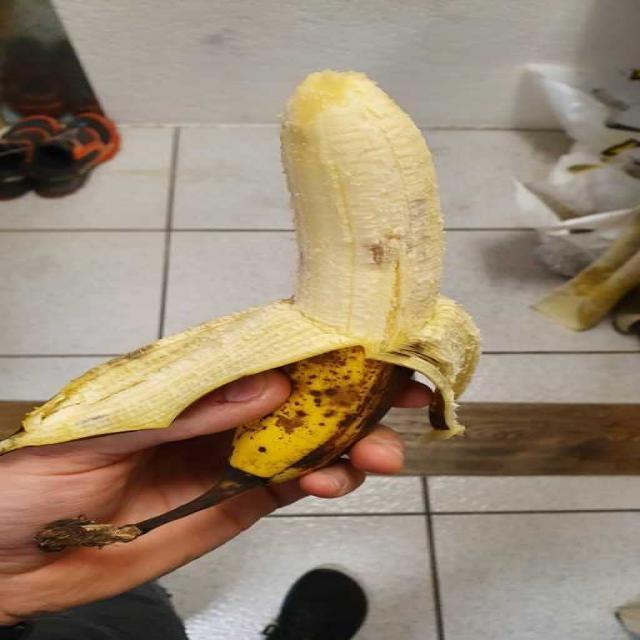banana: (26, 76, 468, 481)
